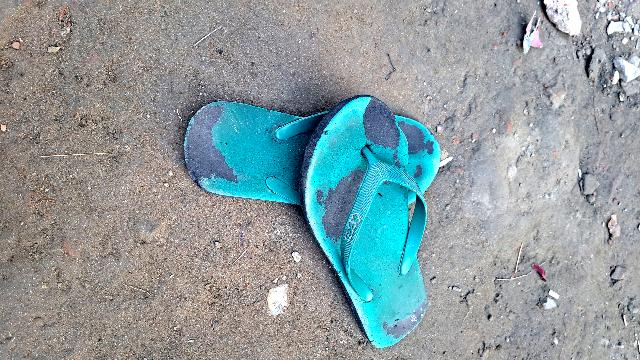sandal: (171, 92, 454, 235), (299, 95, 435, 345)
